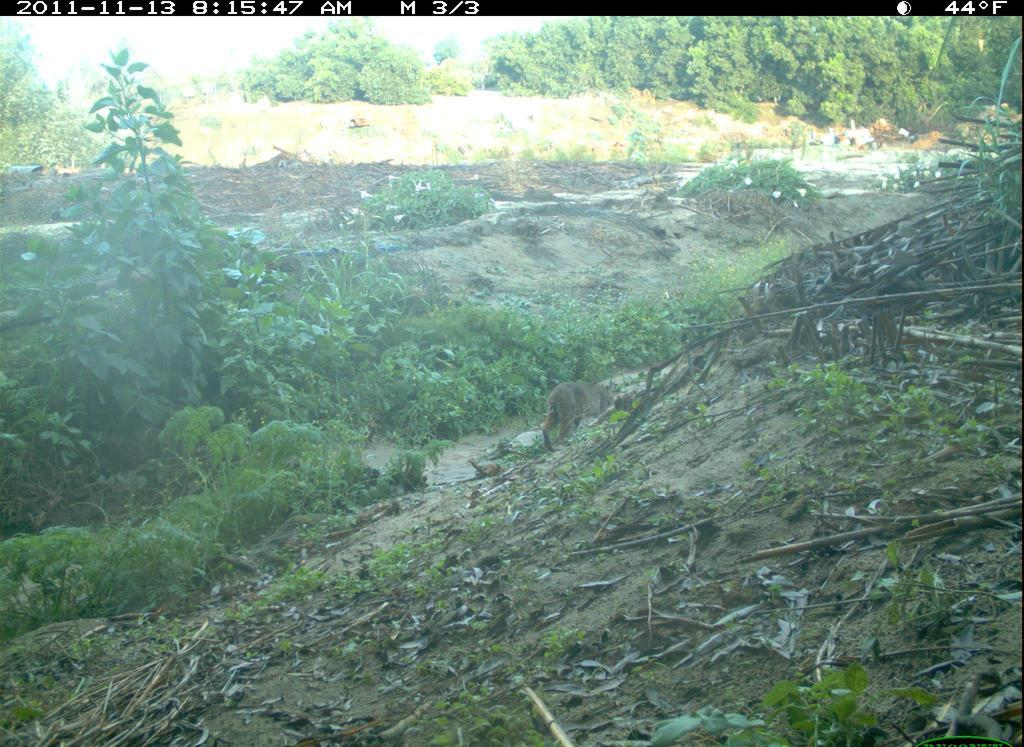bobcat: (539, 377, 625, 460)
